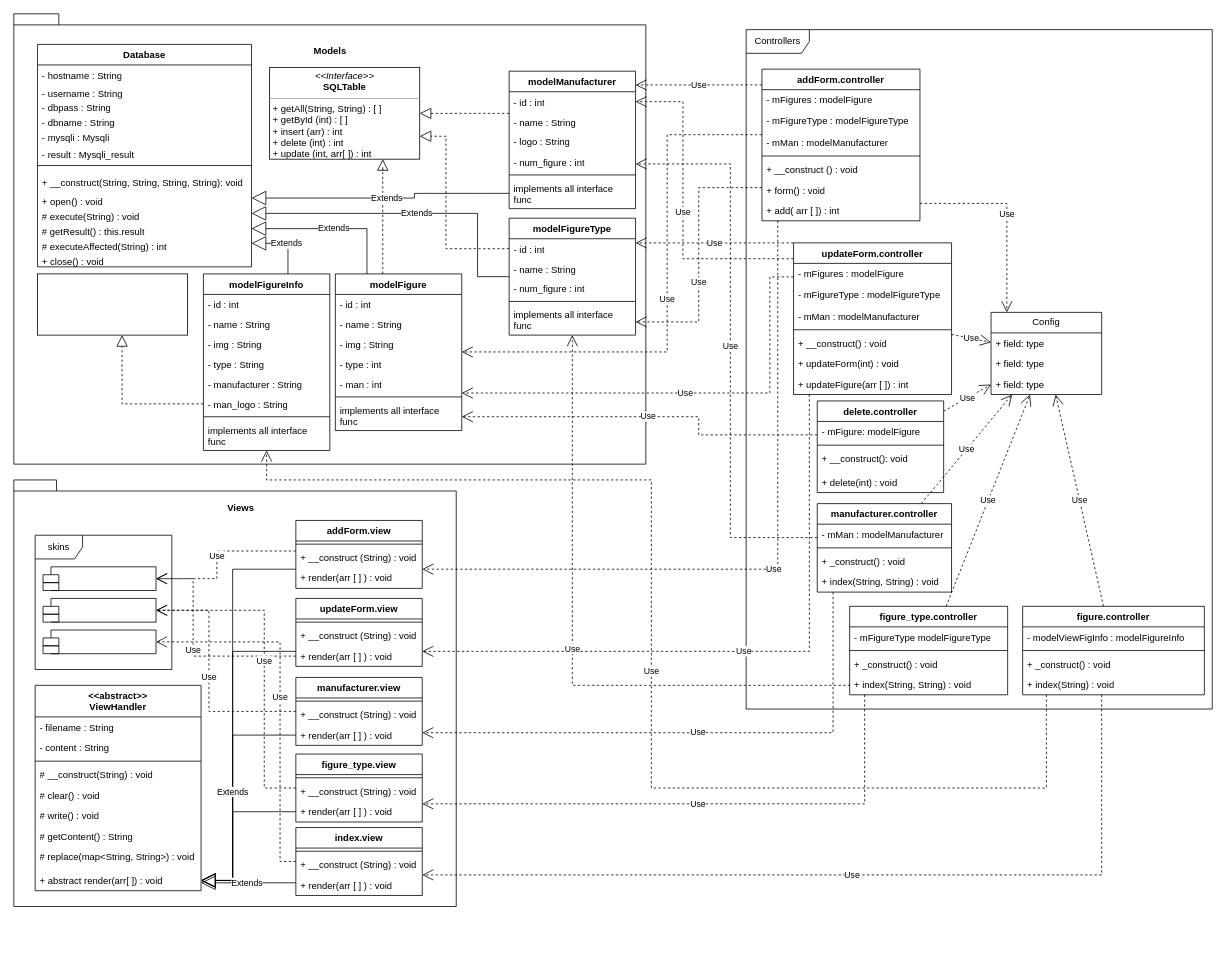
Some shapes in this 1226 by 968 pixel diagram are drawn without their labels. Here are the shapes that lost their labels. From the top down, the centre of each, then its label:
At [112,304]: "<<Interface>> SQLViewTable + getAll(String, String) : [ ] + getById (int) : [ ]".
At [99,578]: "figureForm.skin.html".
At [99,610]: "table.skin.html".
At [99,641]: "index.skin.html".
